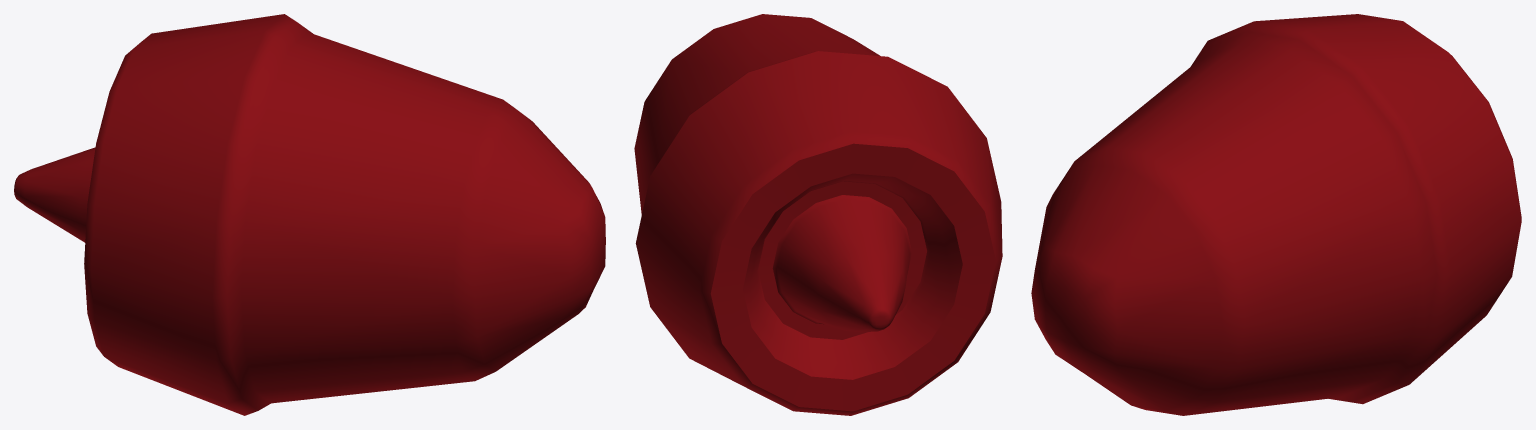
Rendered from Ship_Boos_01_Engine_03_R.fbx.
The picture shows the model from 3 angles, left to right: view 1: azimuth 30°, elevation 25°; view 2: azimuth 150°, elevation 25°; view 3: azimuth 270°, elevation 25°; orthographic projection. The views are drawn at different scales.
Visible parts, largest first — view 1: Ship_Boos_01_Engine_03_R; view 2: Ship_Boos_01_Engine_03_R; view 3: Ship_Boos_01_Engine_03_R.
Part boxes in pixels (bbox=[...]): Ship_Boos_01_Engine_03_R: bbox=[14, 14, 605, 415]; Ship_Boos_01_Engine_03_R: bbox=[634, 14, 1002, 415]; Ship_Boos_01_Engine_03_R: bbox=[1031, 14, 1521, 415].
Bounding box in the file's own units: 303 × 250 × 303.
